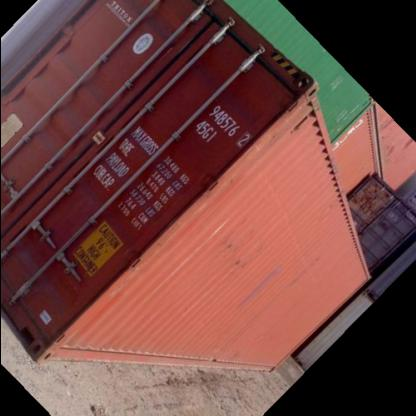Damage: (240, 267, 280, 310), (291, 255, 318, 306), (38, 270, 72, 310), (221, 234, 252, 274), (324, 196, 342, 218)
